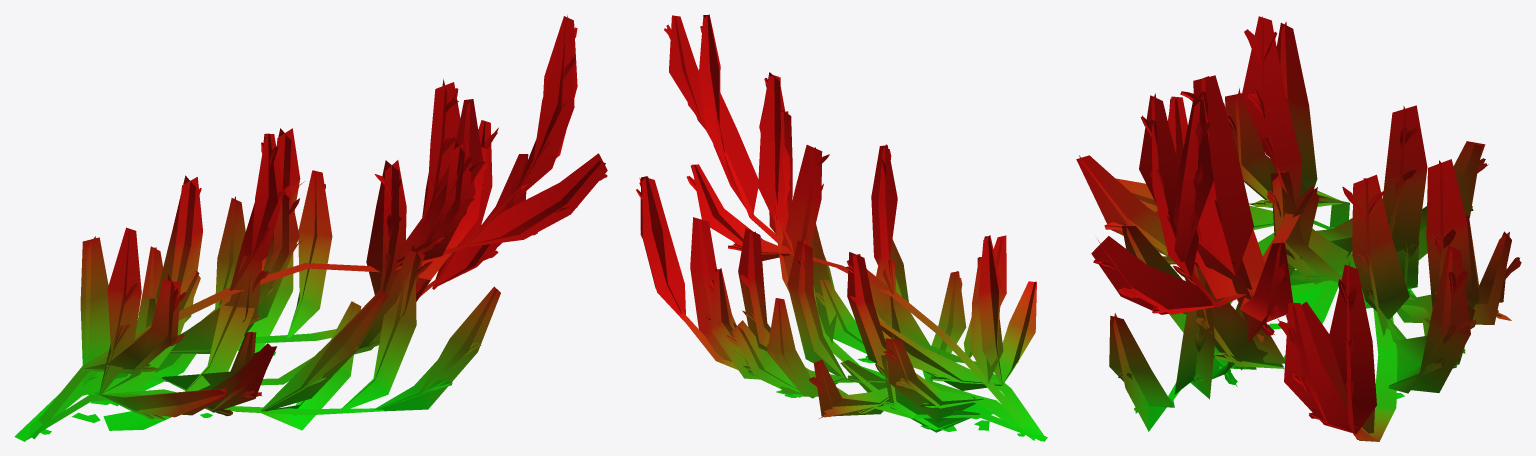
Rendered from River Saltbush_LOD2_Var6_vdfpcgbia.fbx.
3 views of the same model, side by side, from view 1: azimuth 30°, elevation 25°; view 2: azimuth 150°, elevation 25°; view 3: azimuth 270°, elevation 25° (orthographic). The views are drawn at different scales.
Visible parts, largest first — view 1: _pxvn_Var6_LOD2; view 2: _pxvn_Var6_LOD2; view 3: _pxvn_Var6_LOD2.
Boxes of the visible parts, x1,y1,x2,y2 form: _pxvn_Var6_LOD2: (14, 15, 607, 441); _pxvn_Var6_LOD2: (636, 14, 1047, 441); _pxvn_Var6_LOD2: (1076, 16, 1521, 441).
Bounding box in the file's own units: 33.44 × 22.28 × 20.13.
